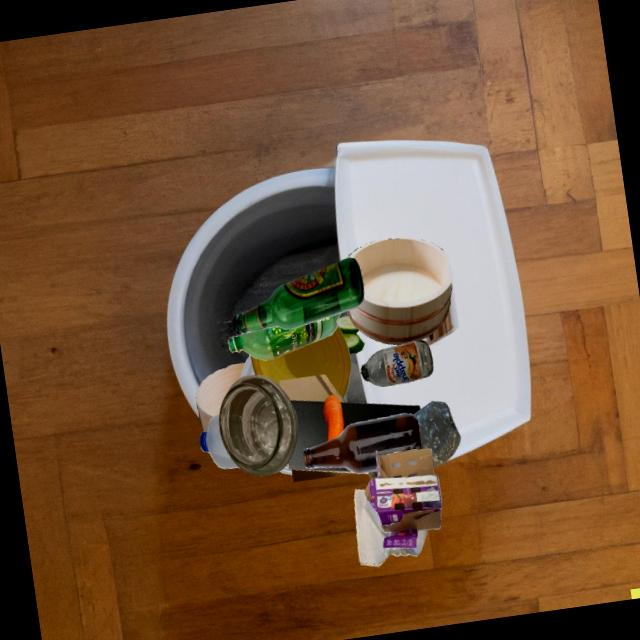biowaste: (337, 316, 365, 353), (323, 395, 344, 441)
cardboard: (364, 448, 442, 549), (288, 400, 355, 473), (318, 402, 368, 474), (279, 374, 346, 403), (340, 402, 421, 425), (292, 469, 356, 482)
combustible waste: (348, 238, 452, 345), (196, 363, 246, 432)
glass: (232, 257, 364, 335), (219, 375, 298, 476), (304, 413, 422, 474), (361, 340, 433, 387)
paper: (354, 489, 427, 567)
plastic: (243, 375, 347, 469), (250, 324, 351, 399), (228, 313, 341, 361), (227, 401, 297, 464), (413, 401, 461, 467), (200, 414, 227, 461)
